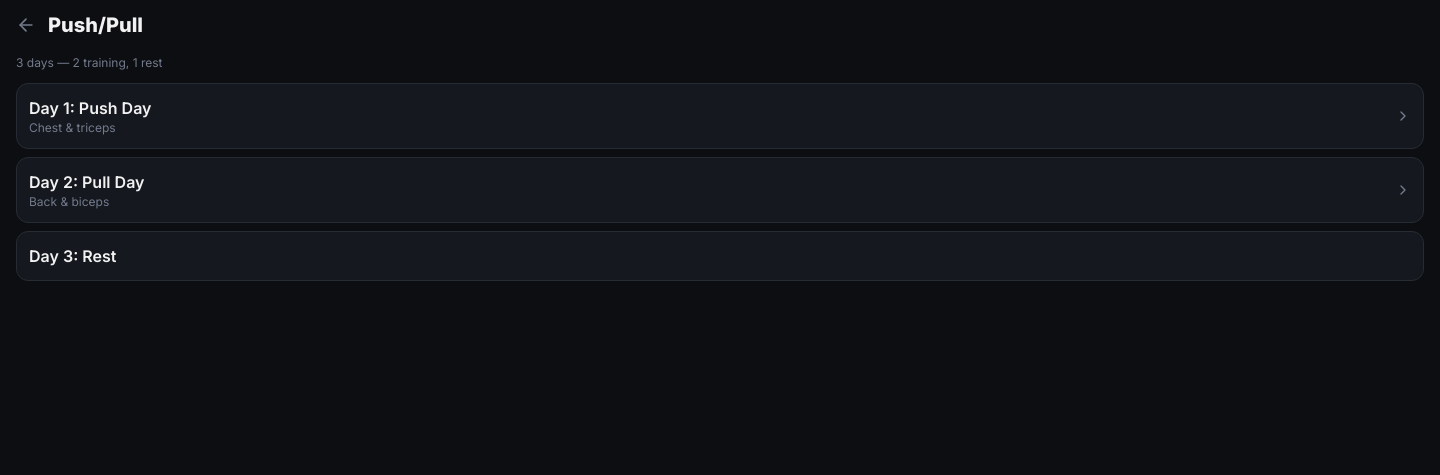
Test: ProgramView › expands a day to its exercises and collapses the previously open one
Step 1. Click the text "Day 1: Push Day" → (90, 108), box x1=29 y1=96 x2=152 y2=120
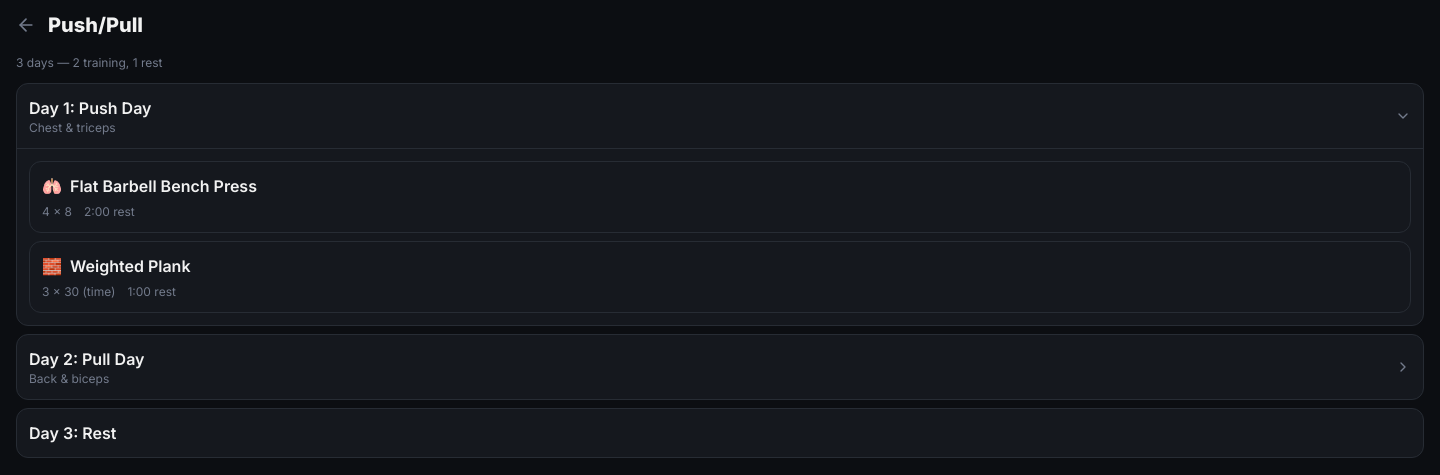
Expected: the text "Flat Barbell Bench Press" is shown, x1=70 y1=174 x2=257 y2=198
Expected: the text "Weighted Plank" is shown, x1=70 y1=254 x2=190 y2=278
Step 2. Click the text "Day 2: Pull Day" → (87, 359), box x1=29 y1=347 x2=144 y2=371
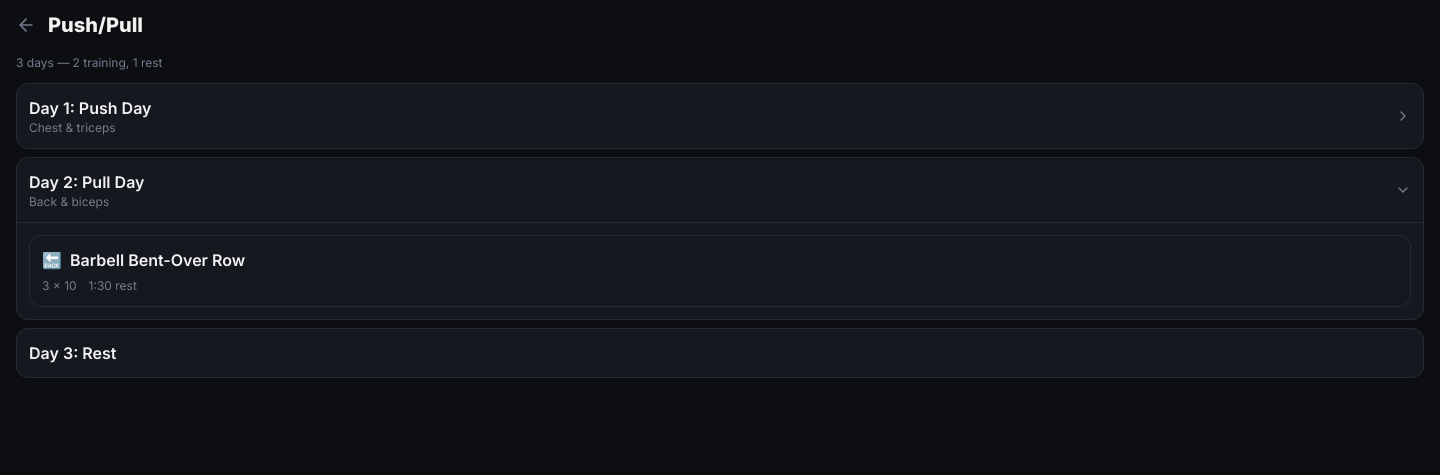
Expected: the text "Barbell Bent-Over Row" is shown, x1=70 y1=248 x2=245 y2=272
Expected: the text "Flat Barbell Bench Press" is gone
